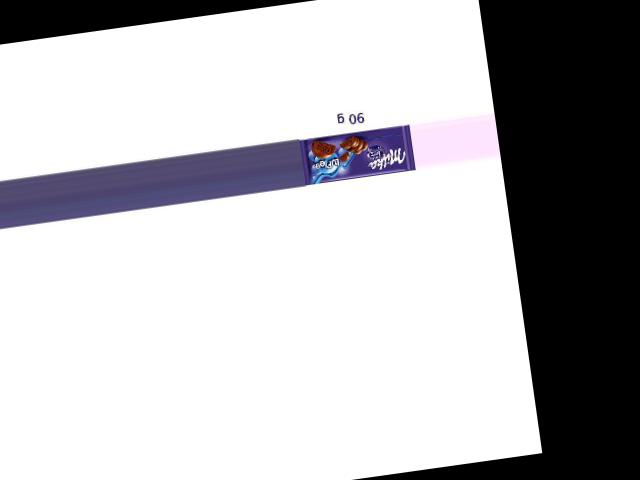chocolate: (298, 125, 413, 186)
